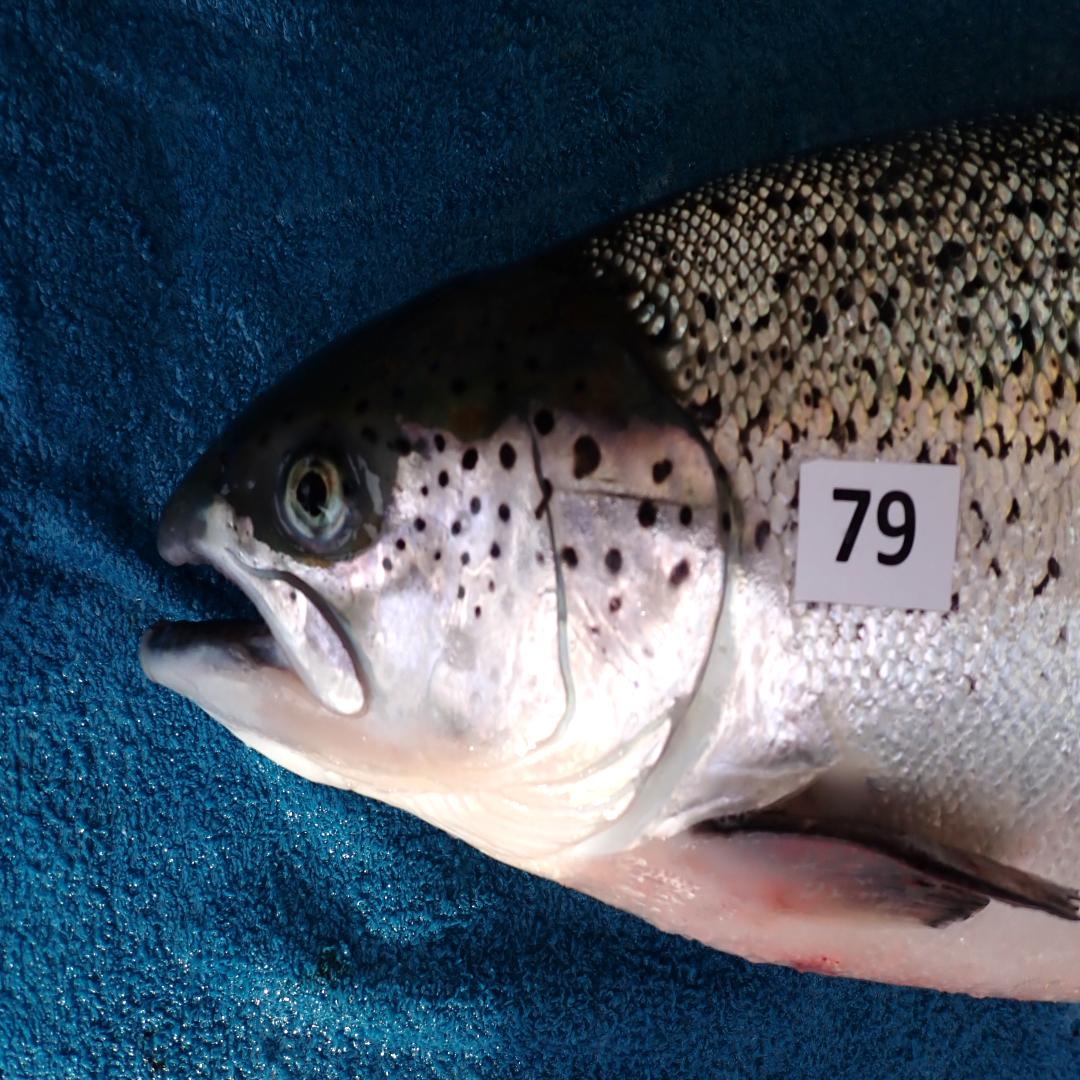roi: (363, 404, 736, 864)
